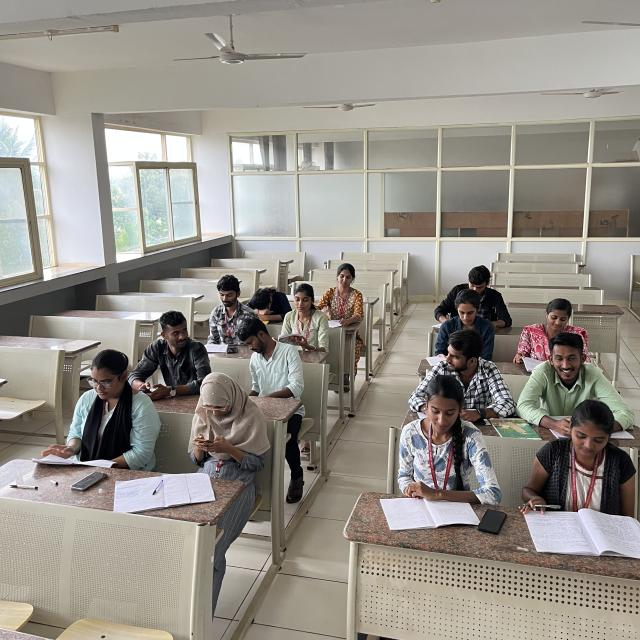Reading: (397, 373, 480, 542), (34, 352, 151, 468), (514, 292, 599, 370), (323, 242, 375, 332), (195, 274, 248, 348), (281, 283, 332, 354)
Sleeping: (246, 277, 292, 326)
Using Phone: (178, 365, 278, 479), (130, 308, 211, 401)
Writing: (512, 394, 638, 530)
